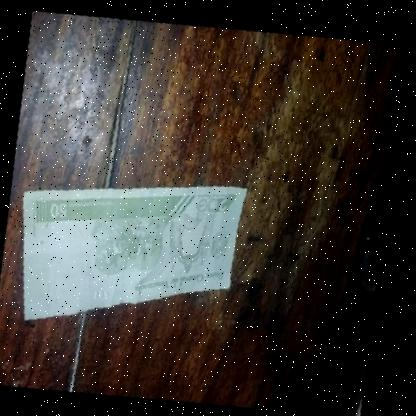vef_back: (0, 142, 257, 359)
